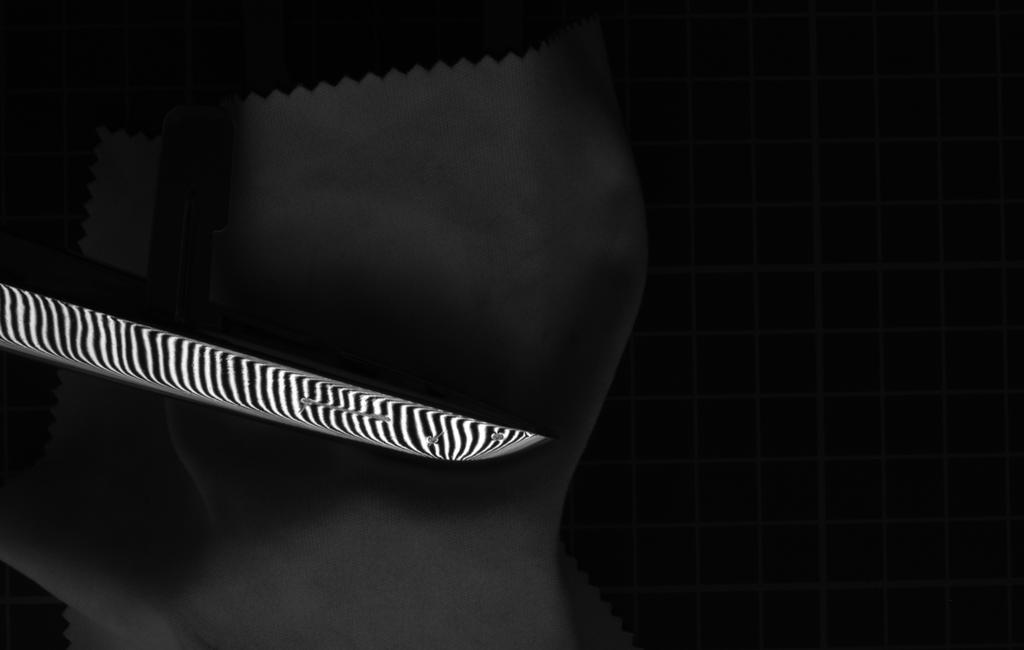Pierced: (422, 430, 450, 451), (479, 428, 511, 442)
Scratch: (287, 389, 403, 430)
